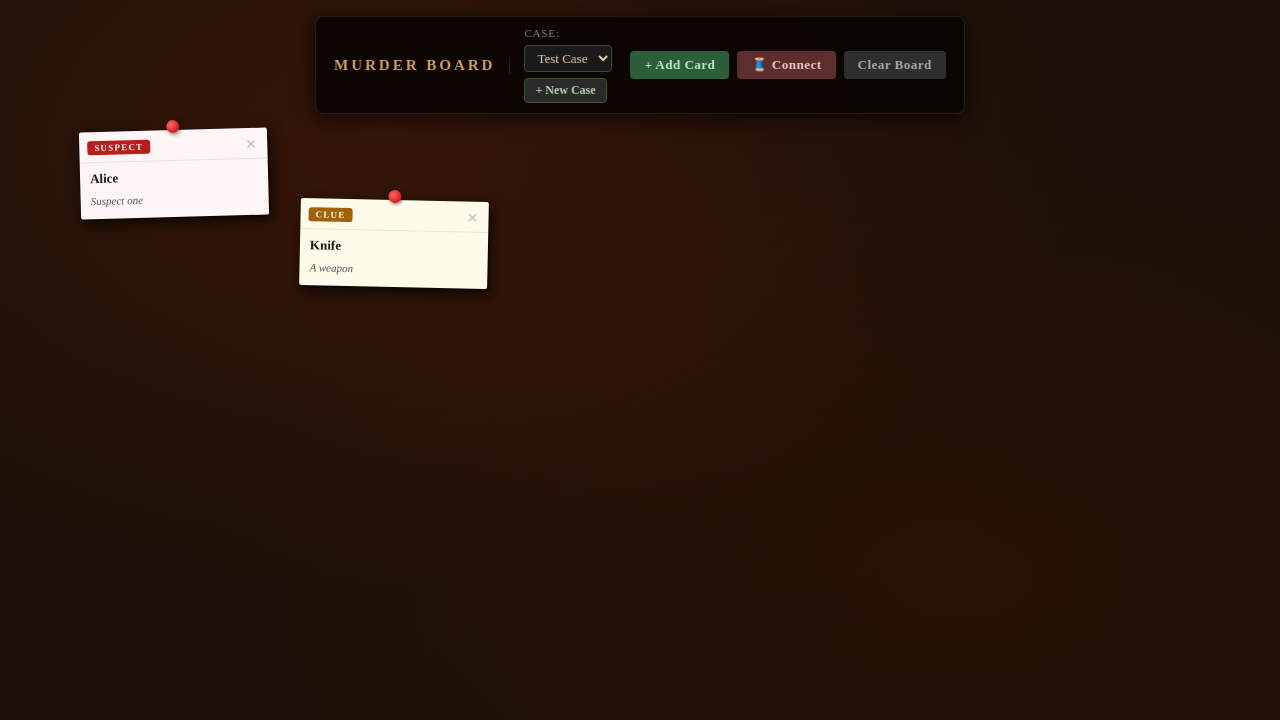
Board › opens the Add Card modal when + Add Card is clicked
The image size is (1280, 720).
What coordinates should you click on to do the following:
click the button "+ Add Card"
I would click on:
 (680, 65)
Its box is [630,51,729,79].
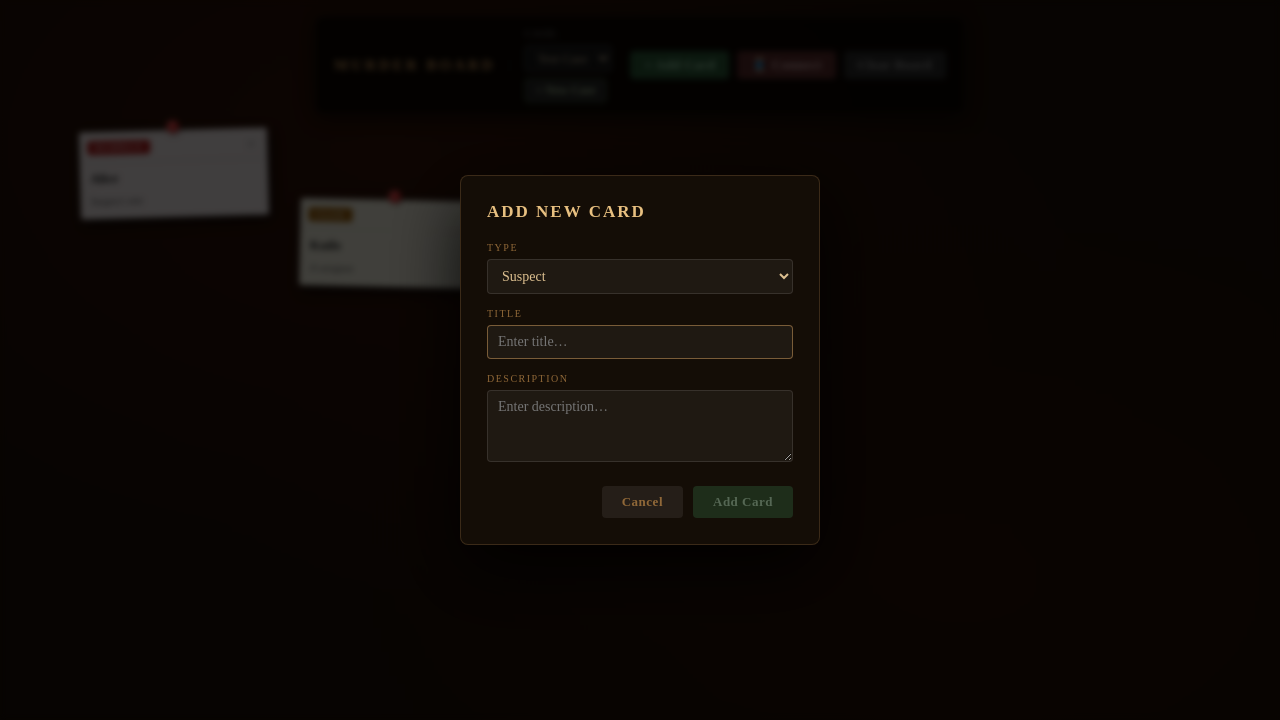
Result: the text "Add New Card" is shown at [487,202,646,221]
